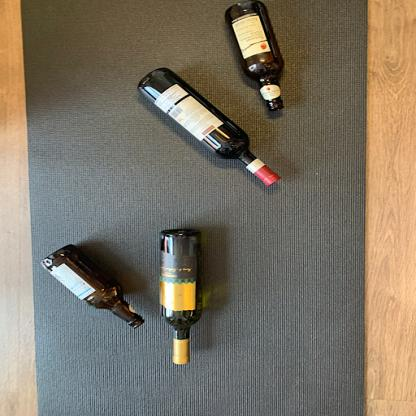trash: (134, 67, 288, 192), (42, 244, 146, 333), (222, 3, 290, 112), (157, 229, 203, 362)
